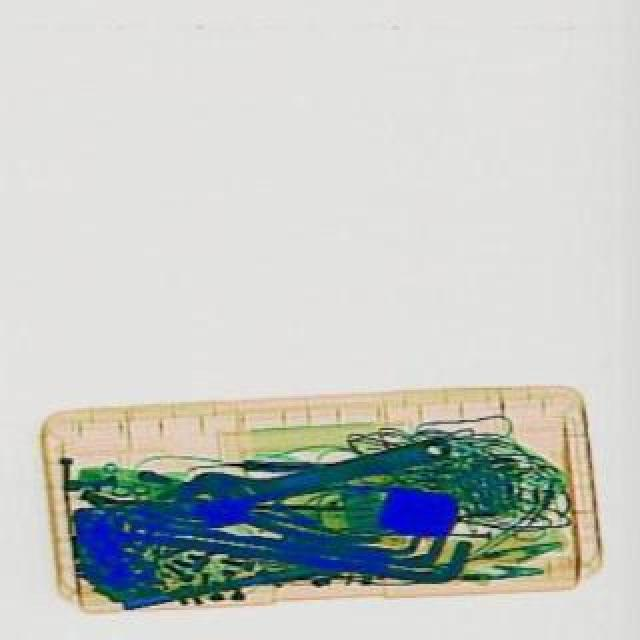scissors: (180, 418, 462, 530)
